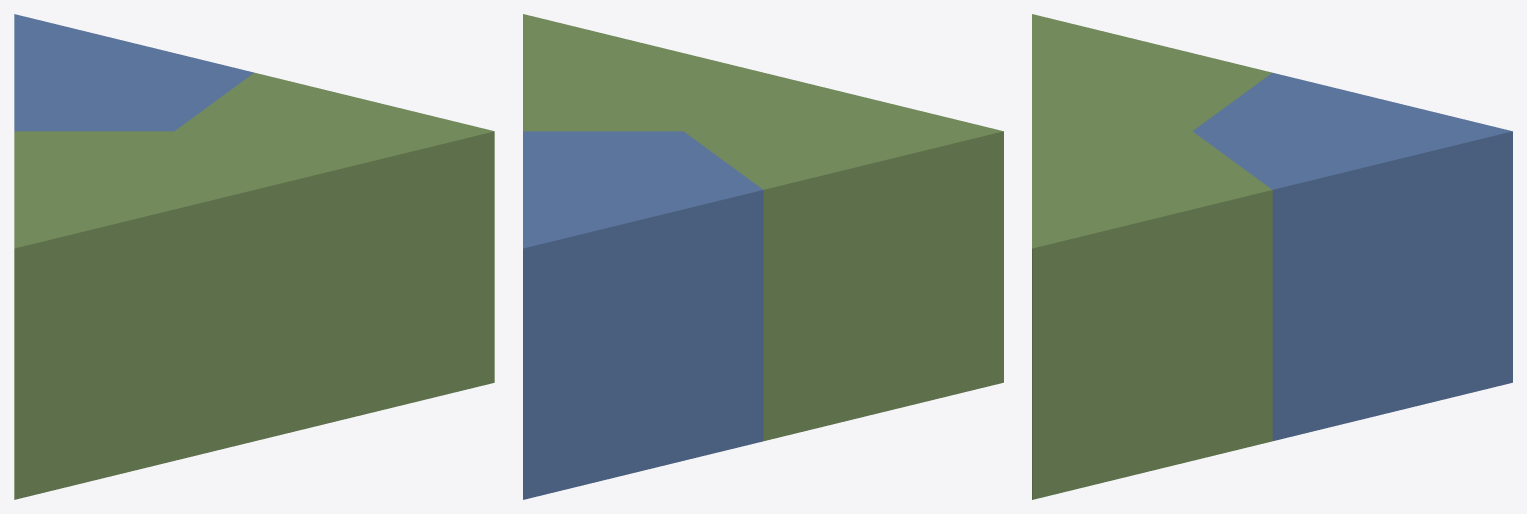
The model's file is tri_5_grassland_lake-grassland_grassland-lake.glb.
3 views of the same model, side by side, from view 1: azimuth 30°, elevation 25°; view 2: azimuth 150°, elevation 25°; view 3: azimuth 270°, elevation 25° (orthographic).
Visible parts, largest first — view 1: Tri.012; view 2: Tri.012; view 3: Tri.012.
Boxes of the visible parts, box(x1,y1,x2,y2) form: Tri.012: box(14, 14, 494, 499); Tri.012: box(523, 14, 1003, 499); Tri.012: box(1032, 14, 1512, 499).
Size of the model in its own units: 1 by 0.5 by 0.8663.
